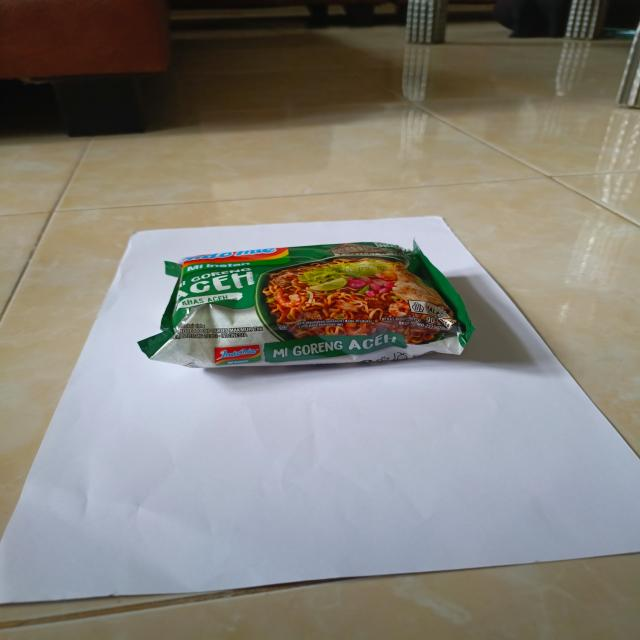gery-salut-coconut: (139, 237, 472, 371)
